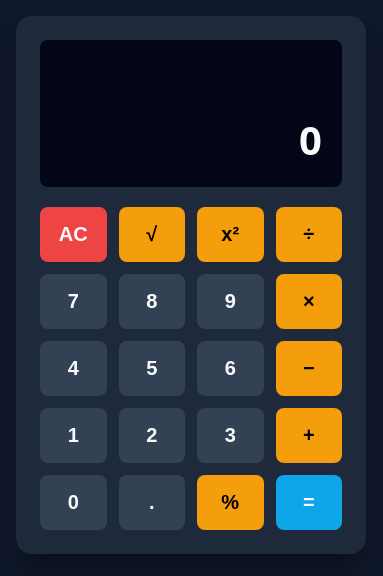
Test: Calculator Component › should clear the screen when the AC button is pressed
Enter a number and then clear it
Step 1. Click the button "9" → (230, 301), box [197,274,264,329]
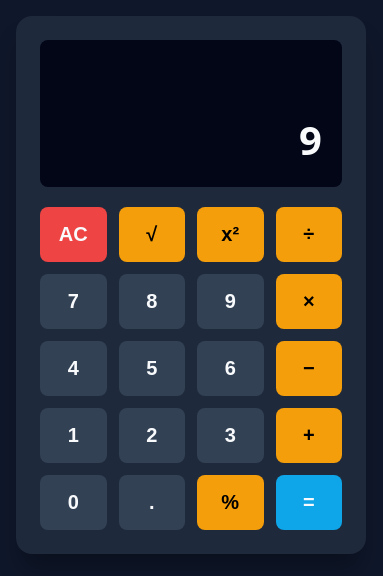
Step 2. Click the button "AC" → (73, 234), box [40,207,106,262]
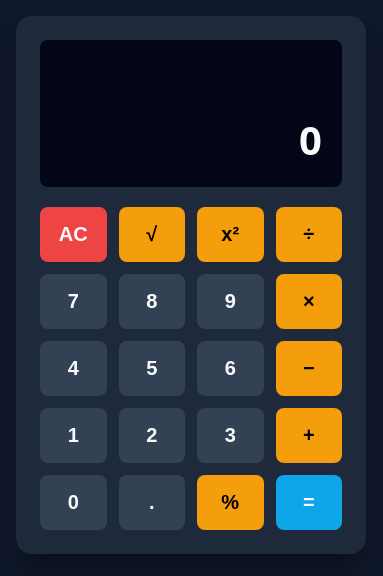
Check: the text with class "display-value" reads "0", box [299,112,322,167]
